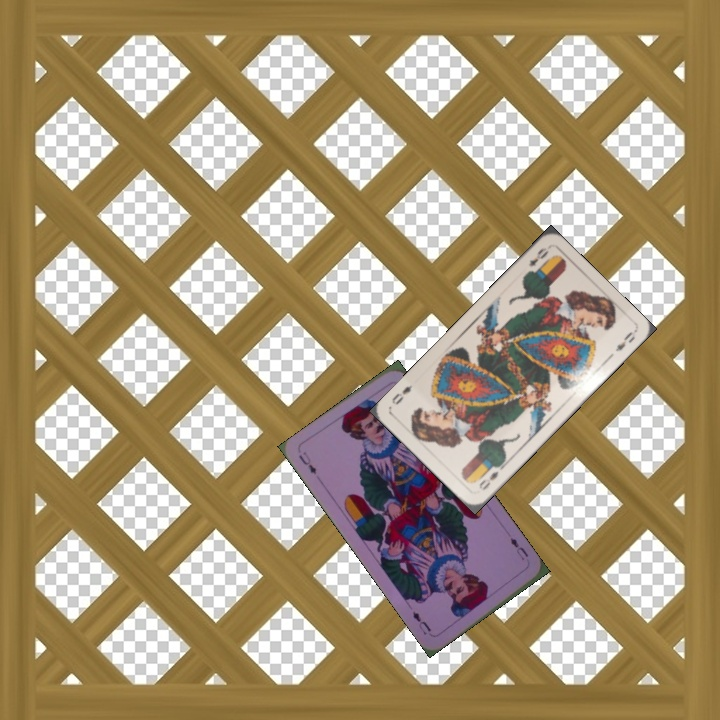EO: (475, 461, 506, 493), (524, 243, 551, 269)
EU: (506, 533, 531, 563), (295, 447, 319, 477)
